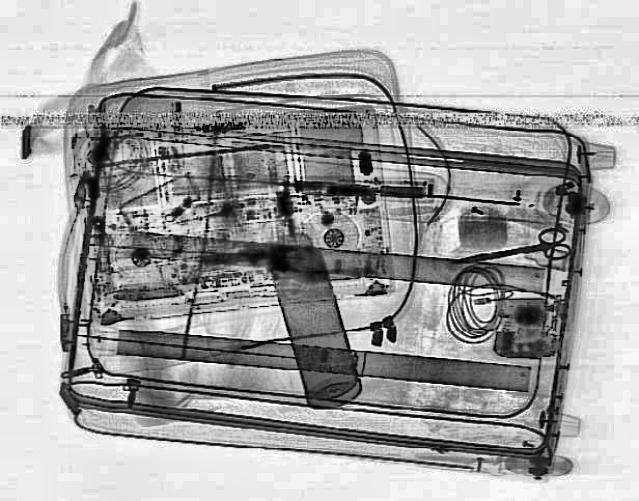Scissors: (448, 223, 576, 277)
